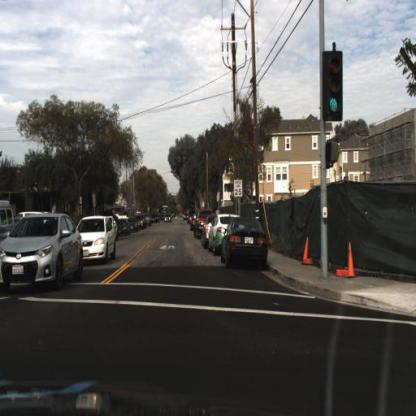car: (1, 211, 85, 297), (220, 218, 270, 269), (71, 214, 117, 265), (208, 210, 238, 254), (208, 212, 230, 257), (194, 210, 209, 243), (201, 215, 212, 251), (115, 219, 131, 239), (108, 216, 120, 242), (127, 216, 139, 234), (137, 215, 145, 232), (165, 215, 174, 227)
trafficLight: (323, 49, 344, 122)
truck: (17, 205, 53, 220)
